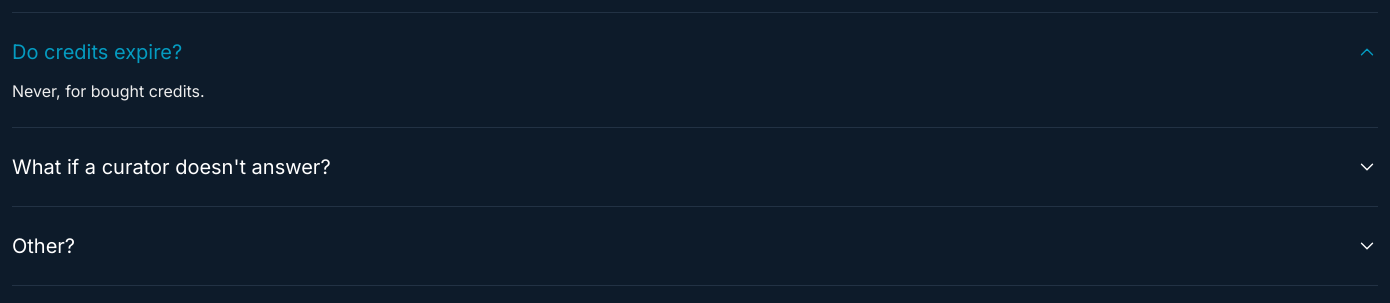
Faq › opens one at a time
This screenshot has width=1390, height=303.
Click the button "What if a curator doesn't answer?": (171, 167) x1=12 y1=128 x2=1378 y2=206
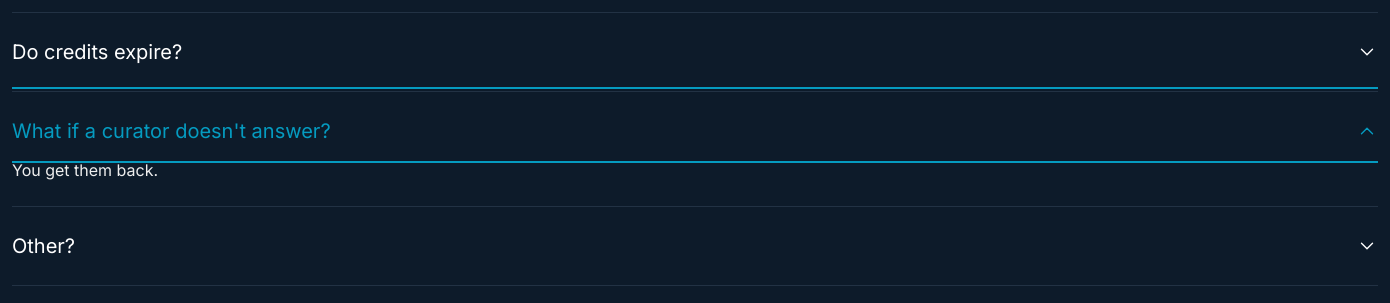
Result: the button "What if a curator doesn't answer?" is expanded at x1=12 y1=92 x2=1378 y2=158
Result: the button "Do credits expire?" is collapsed at x1=12 y1=13 x2=1378 y2=91
Result: the text "You get them back." is shown at x1=12 y1=160 x2=158 y2=180
